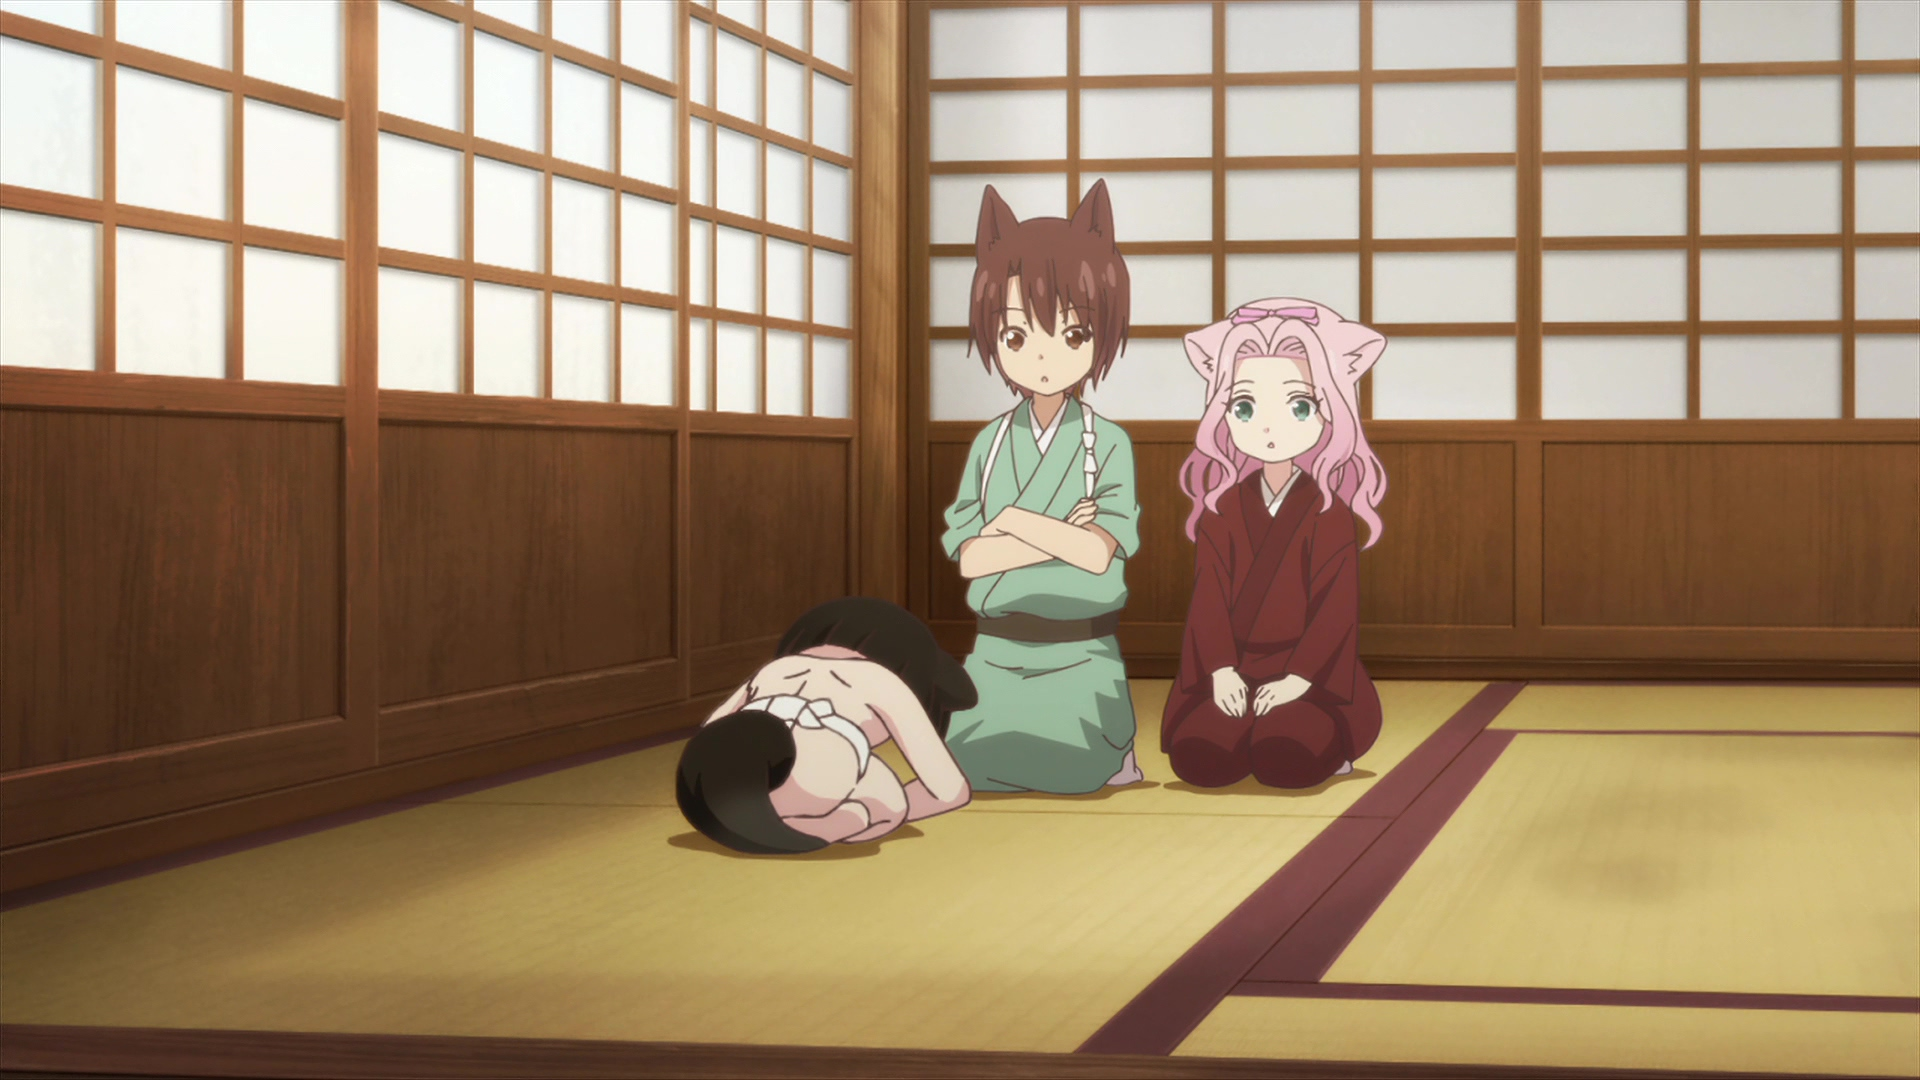其他: (674, 599, 969, 856)
枣: (942, 179, 1146, 796)
莲: (1160, 297, 1389, 791)
